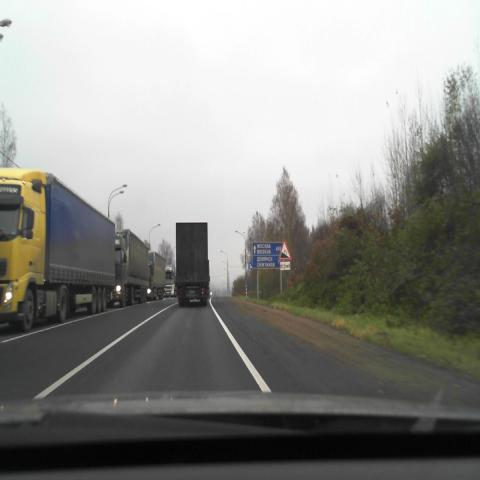1_13: (278, 238, 292, 261)
